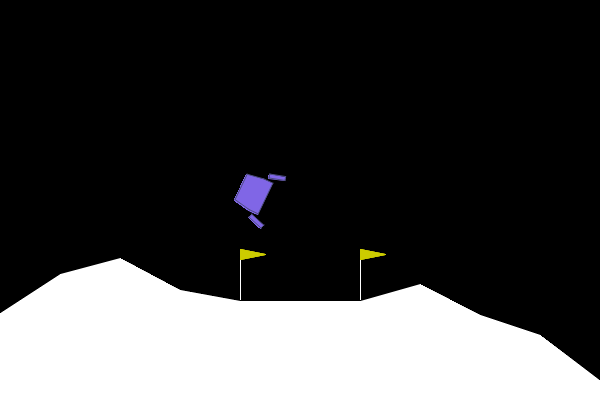lander: (226, 159, 288, 231)
